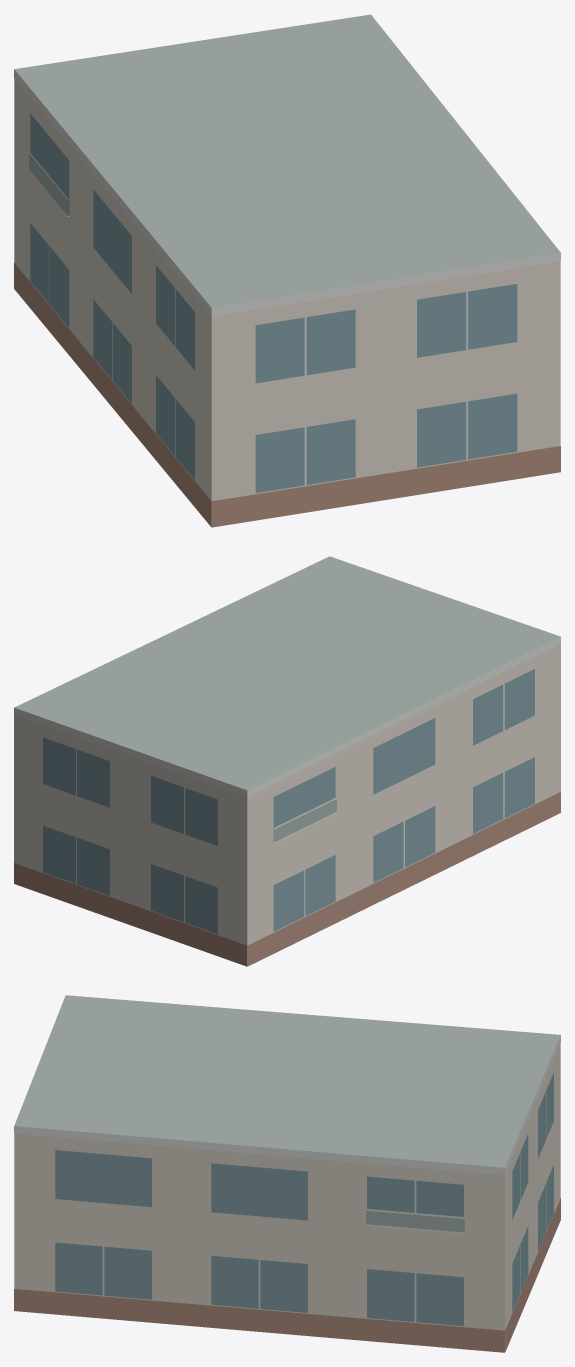
Rendered from survey-upis-32662466.glb.
3 views of the same model, one above another, from view 1: azimuth 30°, elevation 25°; view 2: azimuth 150°, elevation 25°; view 3: azimuth 270°, elevation 25° (orthographic). The views are drawn at different scales.
Visible parts, largest first — view 1: survey-upis-32662466.tmp; view 2: survey-upis-32662466.tmp; view 3: survey-upis-32662466.tmp.
Boxes of the visible parts, box(x1,y1,x2,y2) form: survey-upis-32662466.tmp: box(14, 14, 560, 527); survey-upis-32662466.tmp: box(14, 556, 560, 966); survey-upis-32662466.tmp: box(14, 995, 560, 1352).
Bounding box in the file's own units: 12.23 × 6.1 × 16.36.
